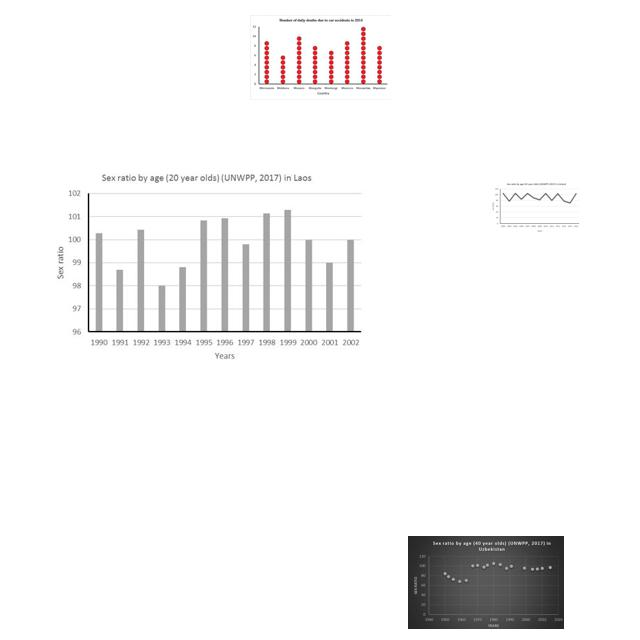Graph: (46, 168, 368, 368), (408, 536, 564, 629), (250, 15, 391, 100), (489, 180, 582, 234)
